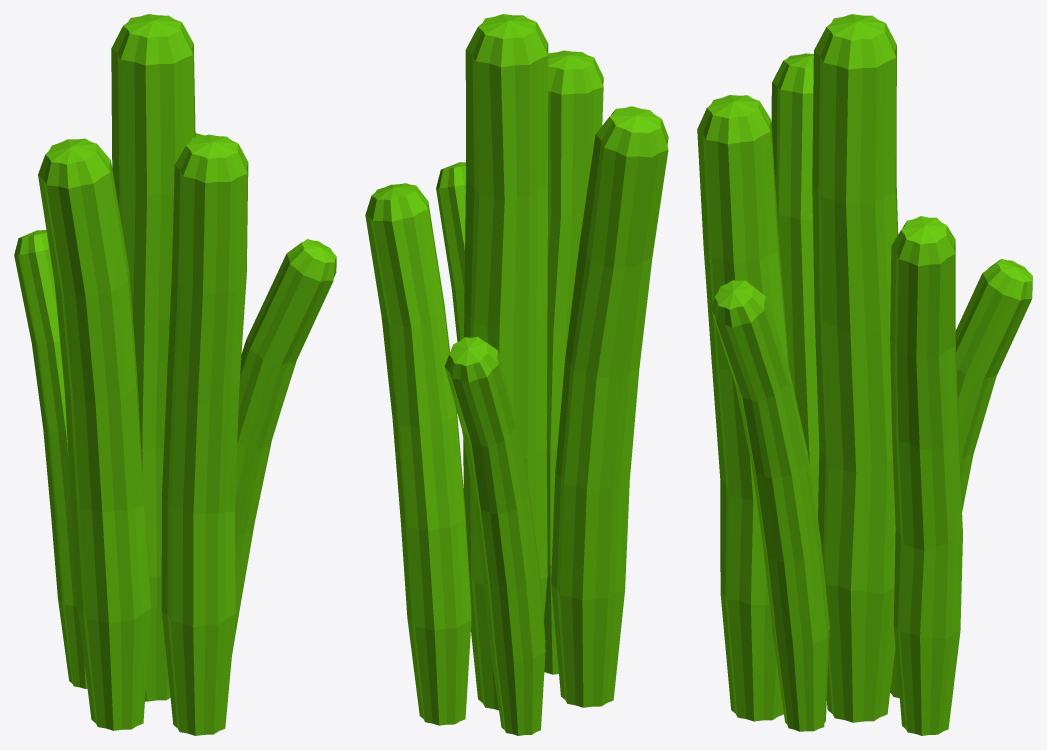
The model's file is ww_cactus_d.glb.
The picture shows the model from 3 angles, left to right: view 1: azimuth 30°, elevation 25°; view 2: azimuth 150°, elevation 25°; view 3: azimuth 270°, elevation 25°; orthographic projection. The views are drawn at different scales.
Parts seen in each view (by area): view 1: Cactus_D; view 2: Cactus_D; view 3: Cactus_D.
Part boxes in pixels (x1,y1,x2,y2): Cactus_D: [14, 14, 336, 735]; Cactus_D: [365, 14, 668, 735]; Cactus_D: [697, 14, 1032, 735].
Size of the model in its own units: 0.8164 by 2.05 by 0.9027.
